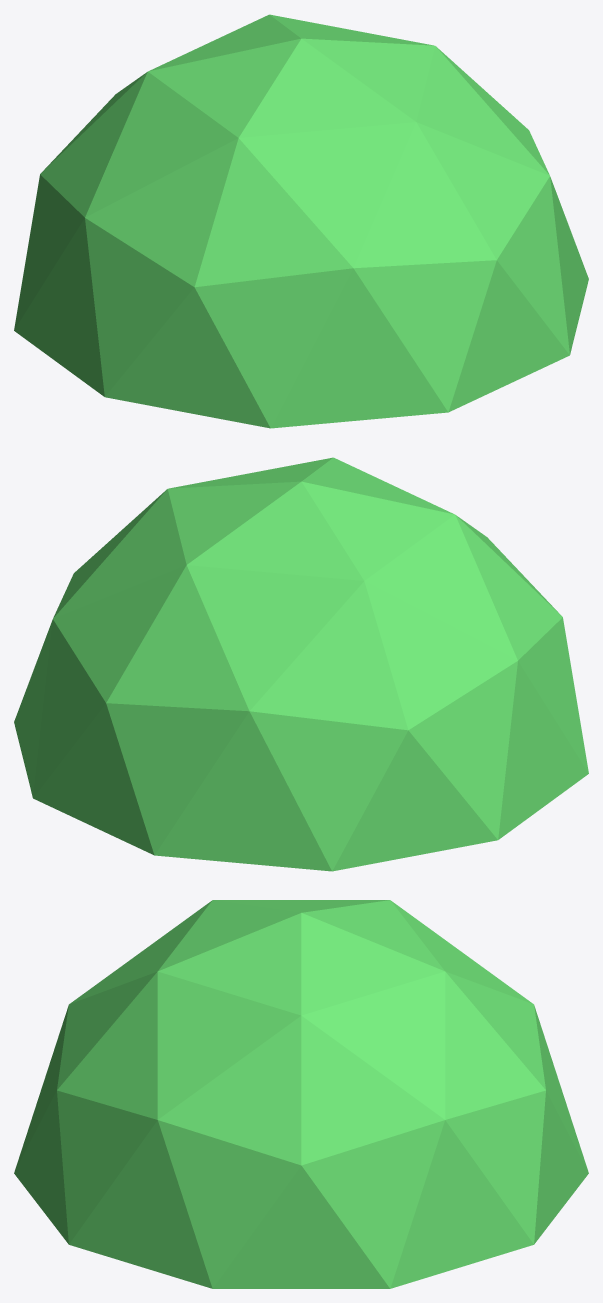
File: Bush_0.fbx
The picture shows the model from 3 angles, top to bottom: view 1: azimuth 30°, elevation 25°; view 2: azimuth 150°, elevation 25°; view 3: azimuth 270°, elevation 25°; orthographic projection. The views are drawn at different scales.
Visible parts, largest first — view 1: Icosphere; view 2: Icosphere; view 3: Icosphere.
Boxes of the visible parts, x1,y1,x2,y2 form: Icosphere: (14, 14, 588, 428); Icosphere: (14, 457, 588, 871); Icosphere: (14, 900, 588, 1288).
Bounding box in the file's own units: 114 × 60 × 120.
